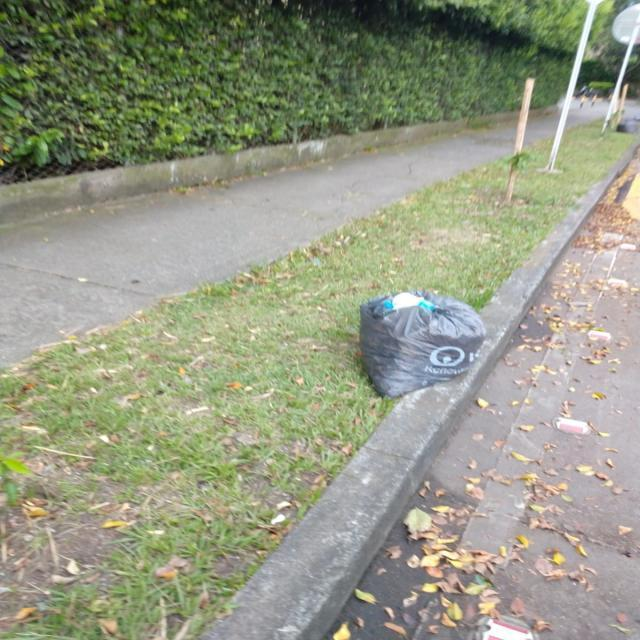Trashbag: (341, 274, 490, 404)
